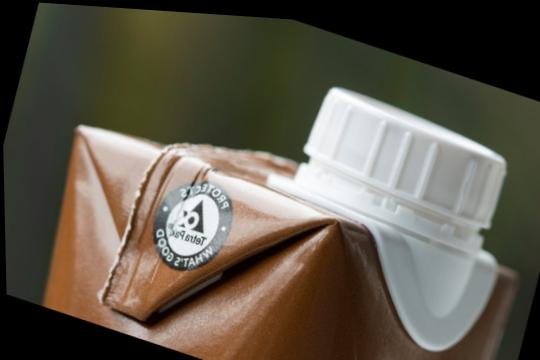cardboard: (23, 5, 539, 357)
